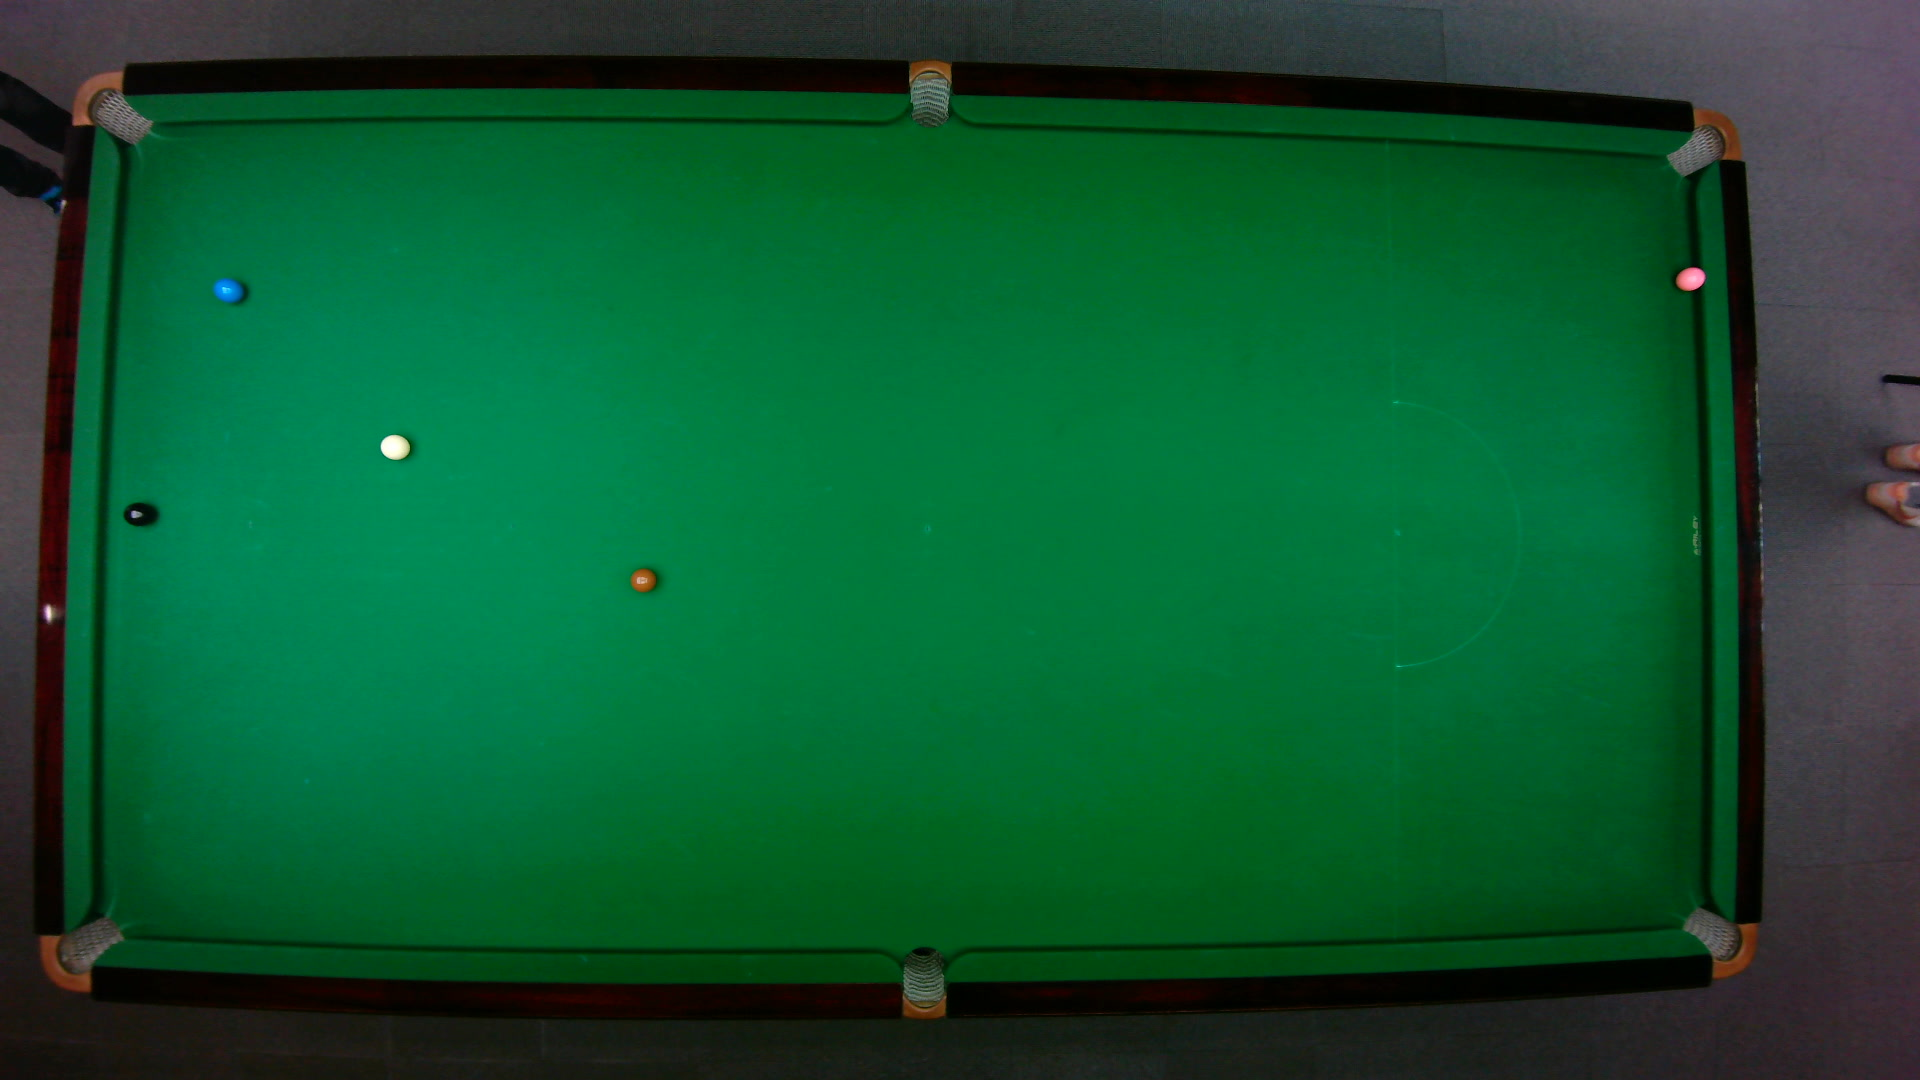bag: (38, 914, 125, 993), (70, 69, 152, 145), (1677, 905, 1756, 978), (1663, 107, 1741, 177), (901, 944, 944, 1021), (909, 57, 949, 128)
black: (121, 501, 156, 526)
blue: (211, 276, 244, 305)
brown: (628, 566, 655, 593)
pink: (1673, 264, 1706, 291)
white: (378, 433, 411, 462)
zone: (1390, 400, 1520, 669)
